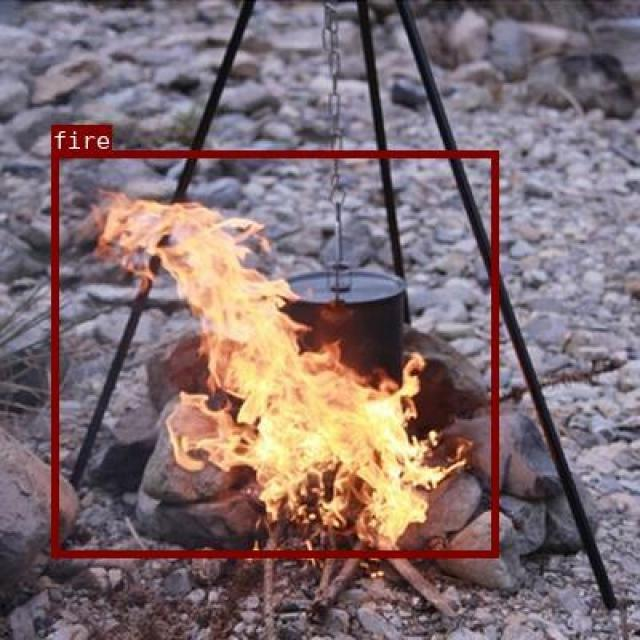fire: (51, 150, 496, 557)
